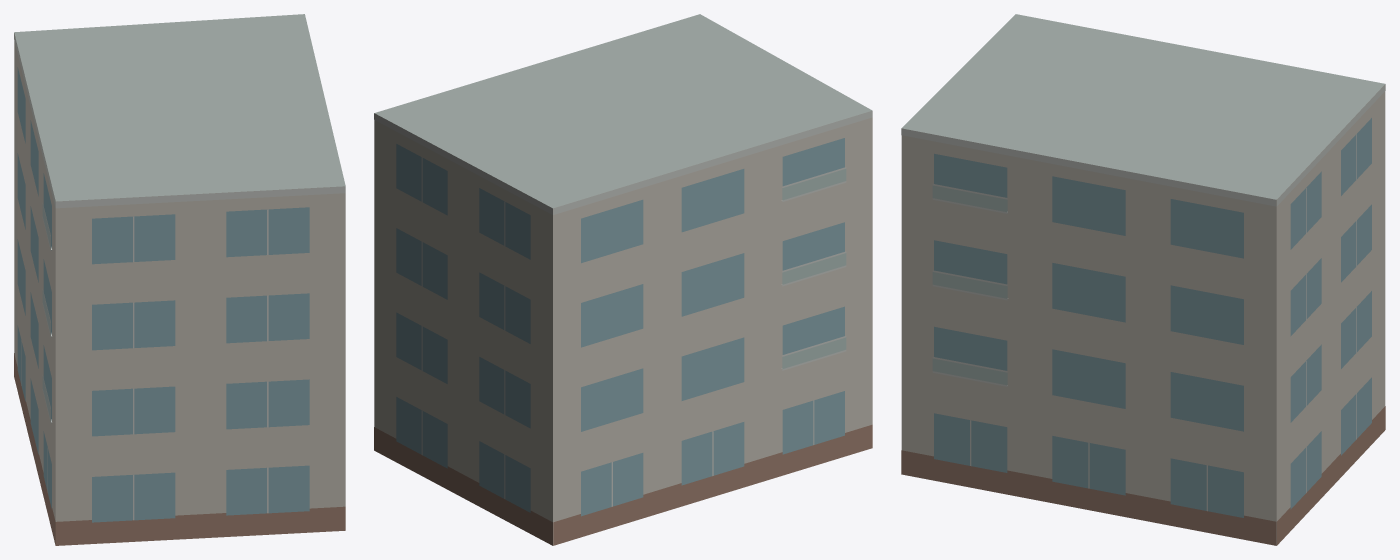
Rendered from survey-upis-32777053.glb.
3 views of the same model, side by side, from view 1: azimuth 30°, elevation 25°; view 2: azimuth 150°, elevation 25°; view 3: azimuth 270°, elevation 25° (orthographic). The views are drawn at different scales.
Parts seen in each view (by area): view 1: survey-upis-32777053.tmp; view 2: survey-upis-32777053.tmp; view 3: survey-upis-32777053.tmp.
Part boxes in pixels (x1,y1,x2,y2): survey-upis-32777053.tmp: (14, 14, 345, 545); survey-upis-32777053.tmp: (374, 14, 872, 545); survey-upis-32777053.tmp: (901, 14, 1385, 545).
Bounding box in the file's own units: 14.06 × 12.2 × 15.48.
